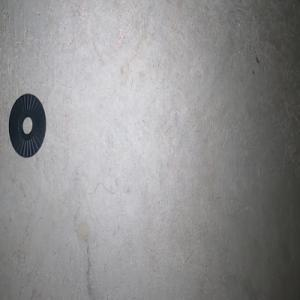Washer: (8, 93, 46, 157)
